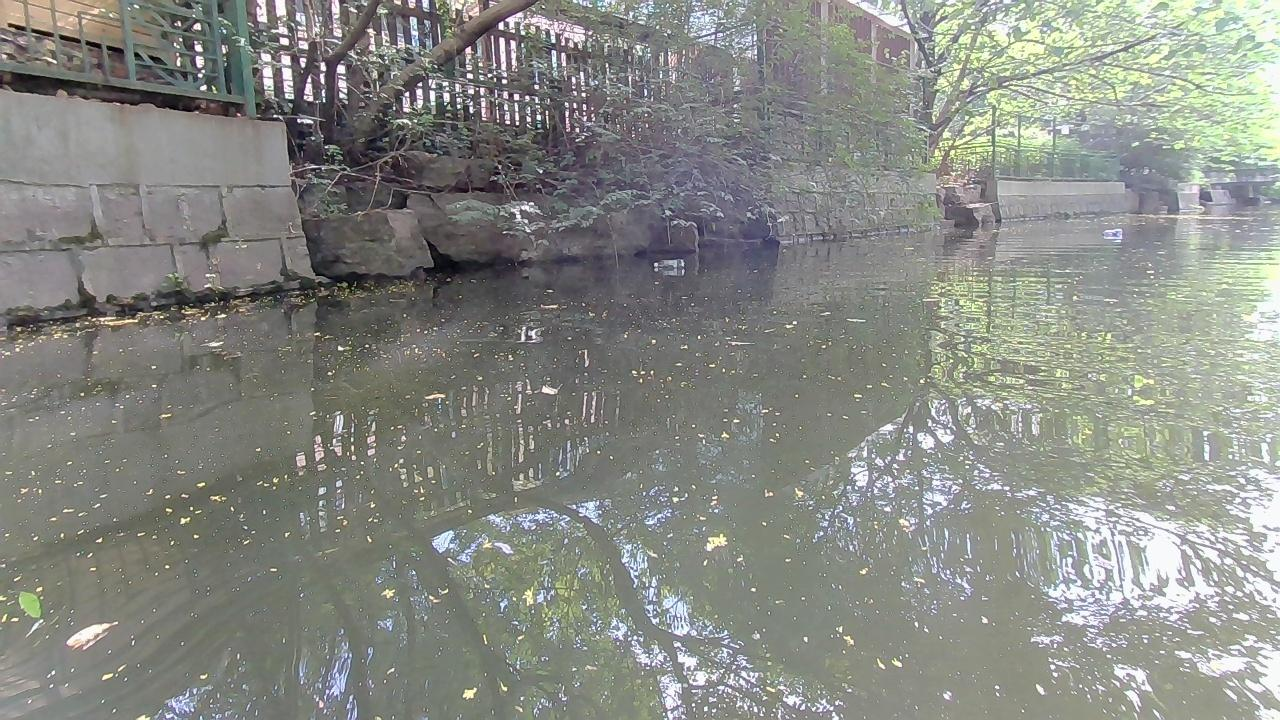bottle: (650, 255, 686, 272), (1100, 229, 1125, 239)
